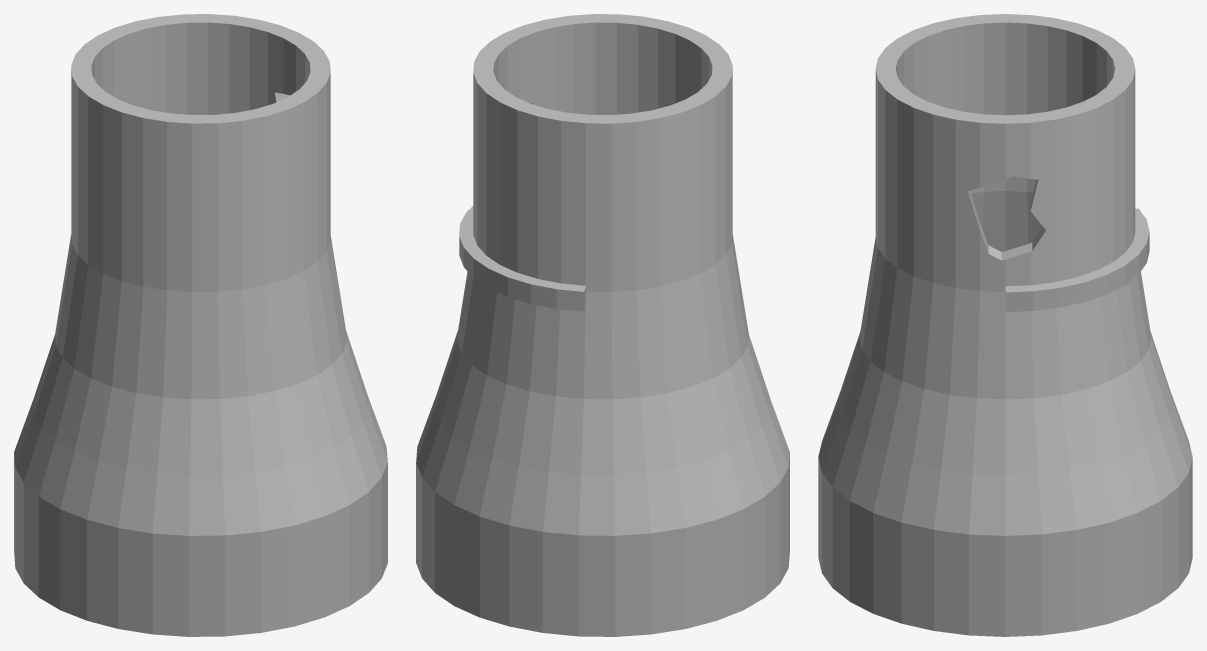
The model's file is LightStoneDecorationLargeCoolingTower3.fbx.
3 renders of one model, left to right at view 1: azimuth 30°, elevation 25°; view 2: azimuth 150°, elevation 25°; view 3: azimuth 270°, elevation 25°, orthographic.
Parts seen in each view (by area): view 1: LightStoneDecorationLargeCoolingTower3; view 2: LightStoneDecorationLargeCoolingTower3; view 3: LightStoneDecorationLargeCoolingTower3.
Part boxes in pixels (box(x1,y1,x2,y2)): LightStoneDecorationLargeCoolingTower3: box(14, 14, 387, 636); LightStoneDecorationLargeCoolingTower3: box(416, 14, 789, 636); LightStoneDecorationLargeCoolingTower3: box(818, 14, 1192, 636).
Bounding box in the file's own units: 1141 × 1645 × 1141.
